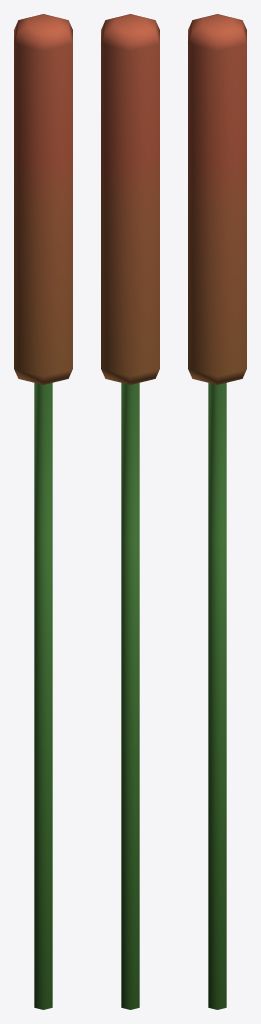
The model's file is SM_Sw_Reed_02.fbx.
3 renders of one model, left to right at view 1: azimuth 30°, elevation 25°; view 2: azimuth 150°, elevation 25°; view 3: azimuth 330°, elevation 25°, orthographic.
Parts seen in each view (by area): view 1: SM_Sw_Reed_02; view 2: SM_Sw_Reed_02; view 3: SM_Sw_Reed_02.
Part boxes in pixels (bbox=[...]): SM_Sw_Reed_02: bbox=[14, 14, 72, 1009]; SM_Sw_Reed_02: bbox=[101, 14, 159, 1009]; SM_Sw_Reed_02: bbox=[188, 14, 246, 1009].
Bounding box in the file's own units: 2.99 × 47.96 × 2.59.
